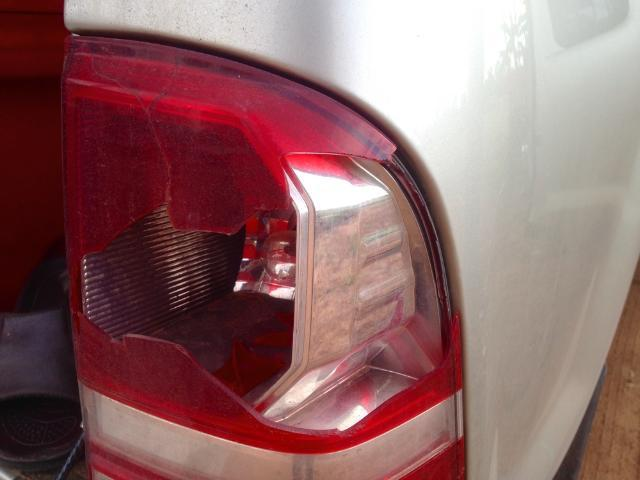lamp broken: (61, 33, 468, 480)
